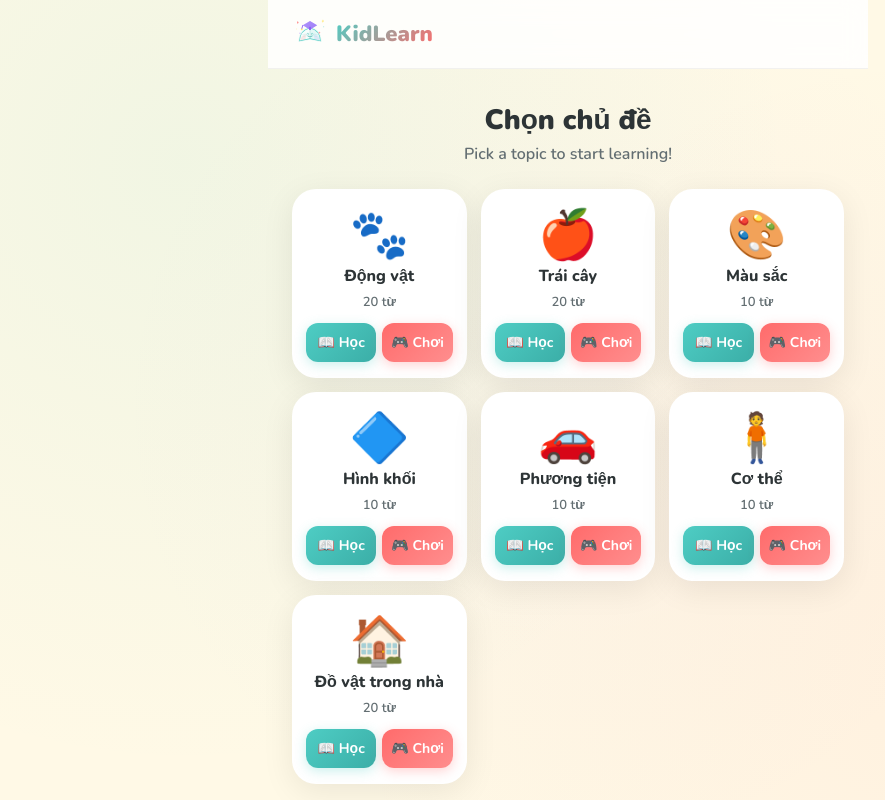
App component › should navigate to flashcard mode when Học is clicked
The image size is (885, 800).
Click the button "📖 Học" below "Động vật". click: [341, 342]
box: x1=306 y1=323 x2=376 y2=362
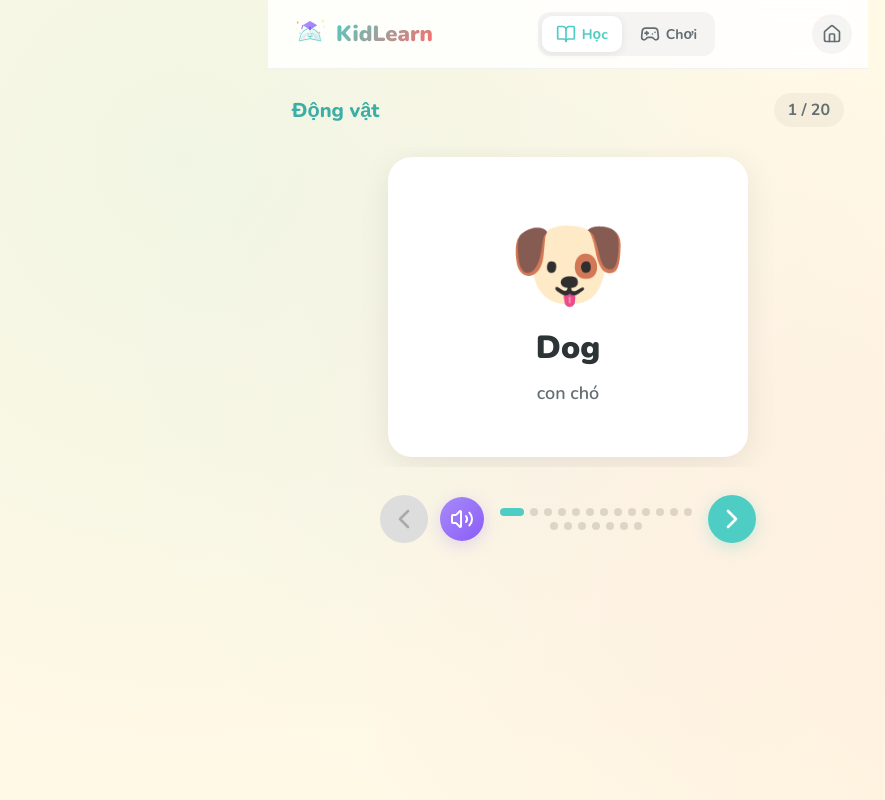
Expected: the button with aria-label "Flashcard mode" is shown, x1=542 y1=16 x2=622 y2=52
Expected: the text "1 / 20" is shown, x1=774 y1=93 x2=844 y2=127
